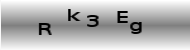3: (86, 14, 99, 27)
E: (115, 9, 128, 24)
R: (37, 20, 53, 37)
g: (130, 21, 142, 34)
k: (66, 8, 80, 21)
